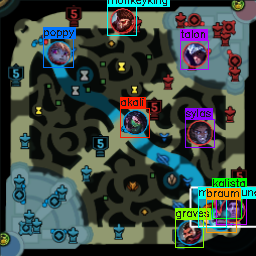akali: (123, 109, 147, 134)
braum: (208, 206, 232, 231)
graves: (177, 220, 202, 245)
kalista: (213, 190, 238, 215)
missfortune: (199, 201, 222, 226)
monkeyking: (109, 8, 134, 34)
poppy: (46, 40, 71, 66)
sylas: (187, 118, 212, 144)
talon: (182, 41, 208, 67)
taric: (220, 197, 244, 221)
